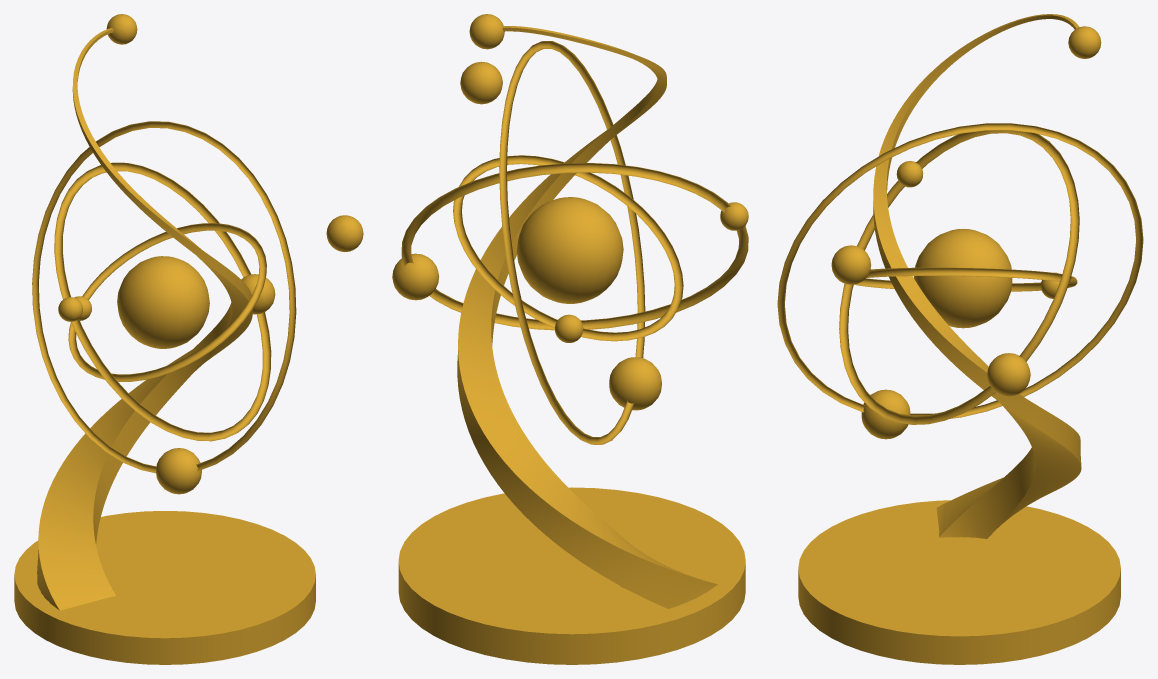
Rendered from physics.glb.
3 renders of one model, left to right at view 1: azimuth 30°, elevation 25°; view 2: azimuth 150°, elevation 25°; view 3: azimuth 270°, elevation 25°, orthographic. The views are drawn at different scales.
Visible parts, largest first — view 1: gold_cap, curved_pole, nucleus, orbit_b, orbit_c, orbit_a, electron_5, electron_3, tip_ball, electron_4; view 2: gold_cap, curved_pole, nucleus, orbit_c, orbit_b, orbit_a, electron_5, electron_4, electron_3, tip_ball, electron_2, electron_1; view 3: gold_cap, curved_pole, orbit_b, nucleus, orbit_c, orbit_a, electron_5, electron_4, electron_3, tip_ball, electron_1.
Part boxes in pixels (x1,y1,x2,y2): gold_cap: [14, 511, 315, 664]; curved_pole: [37, 28, 252, 610]; nucleus: [117, 256, 209, 348]; orbit_b: [32, 121, 296, 473]; orbit_c: [54, 162, 271, 441]; orbit_a: [68, 223, 266, 381]; electron_5: [156, 448, 201, 494]; electron_3: [326, 215, 363, 251]; tip_ball: [106, 14, 137, 44]; electron_4: [241, 274, 275, 314]; gold_cap: [398, 487, 745, 664]; curved_pole: [457, 26, 717, 608]; nucleus: [516, 197, 623, 303]; orbit_c: [401, 163, 748, 330]; orbit_b: [499, 41, 645, 444]; orbit_a: [453, 155, 683, 341]; electron_5: [609, 357, 661, 410]; electron_4: [392, 253, 439, 300]; electron_3: [460, 61, 502, 104]; tip_ball: [469, 14, 504, 49]; electron_2: [555, 314, 583, 342]; electron_1: [720, 202, 748, 230]; gold_cap: [798, 500, 1120, 664]; curved_pole: [873, 14, 1081, 538]; orbit_b: [777, 123, 1143, 418]; nucleus: [914, 228, 1012, 328]; orbit_c: [839, 130, 1079, 424]; orbit_a: [854, 267, 1077, 291]; electron_5: [861, 389, 910, 439]; electron_4: [987, 353, 1030, 396]; electron_3: [831, 245, 871, 284]; tip_ball: [1068, 26, 1101, 58]; electron_1: [896, 161, 923, 187].
Size of the model in its own units: 0.2811 by 0.5251 by 0.3019.
